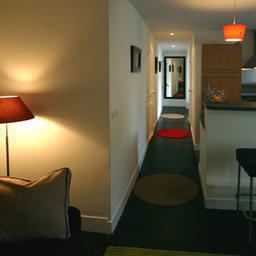Otro Obstaculo: (136, 173, 203, 212), (157, 122, 195, 143), (162, 112, 188, 122)
Puerta: (145, 54, 156, 138)
